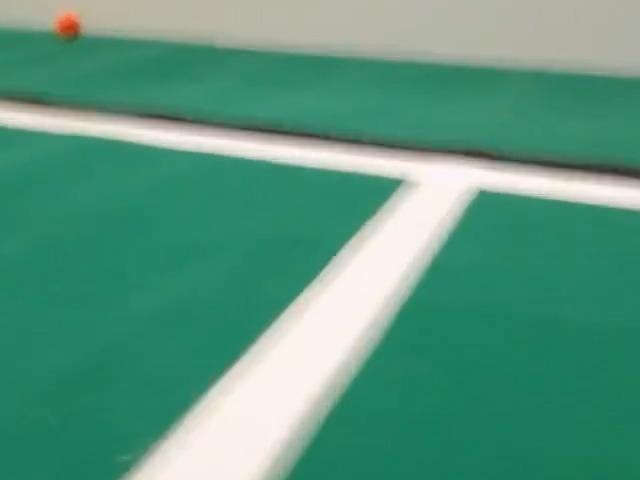Ball: (54, 12, 81, 39)
